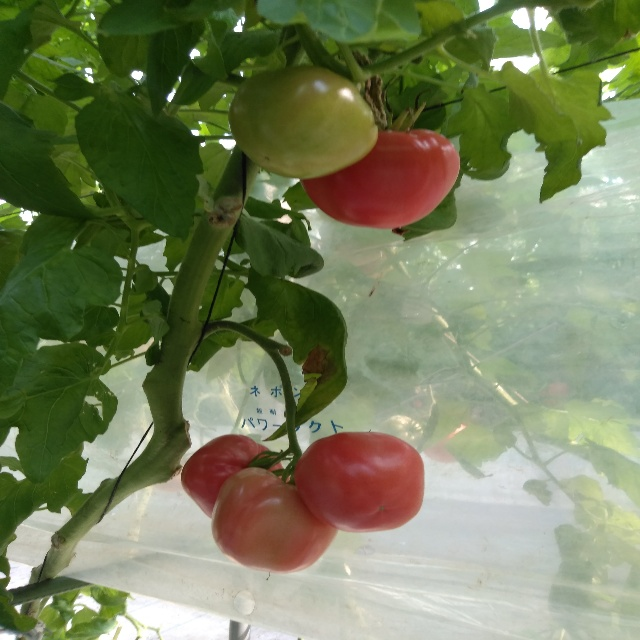b_fully_ripened: (300, 129, 462, 228), (295, 432, 425, 533), (180, 434, 291, 520)
b_half_ripened: (229, 66, 379, 179), (211, 467, 339, 573)
